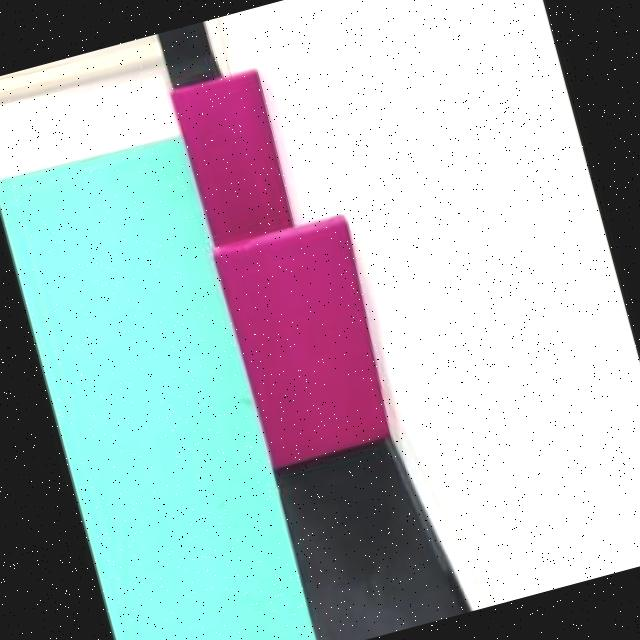xparking: (213, 215, 395, 470), (170, 69, 292, 244)
